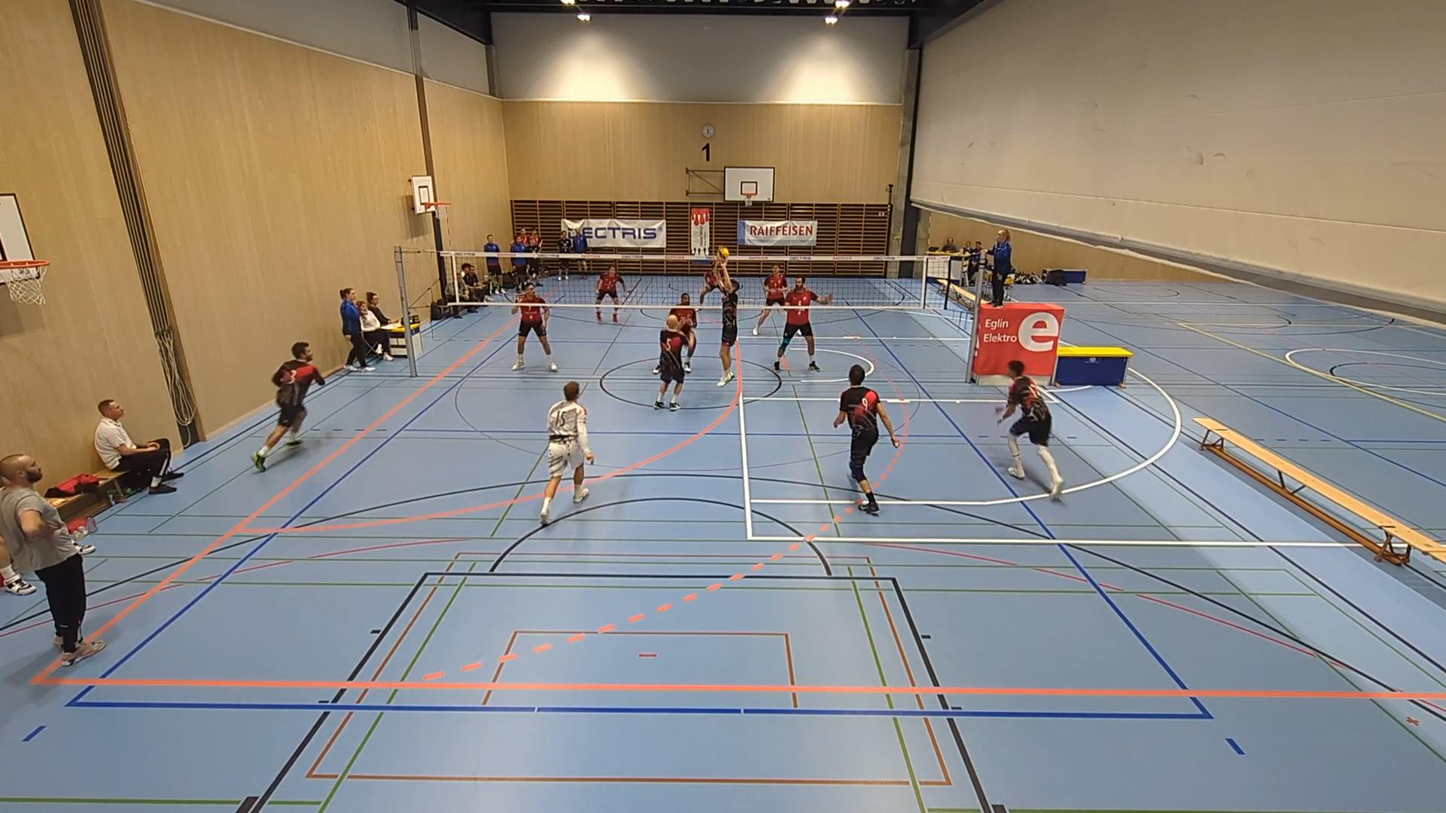Player: (833, 365, 899, 515), (996, 360, 1063, 500), (252, 343, 325, 470), (540, 382, 593, 525), (773, 277, 831, 371), (511, 282, 557, 372), (654, 316, 686, 410), (752, 265, 787, 335), (670, 294, 697, 372), (698, 247, 728, 304), (595, 266, 625, 321)
Set: (700, 258, 748, 384)
ball: (716, 246, 727, 258)
